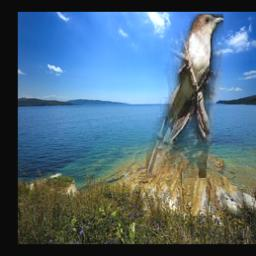Cuckoo: (146, 15, 223, 179)
